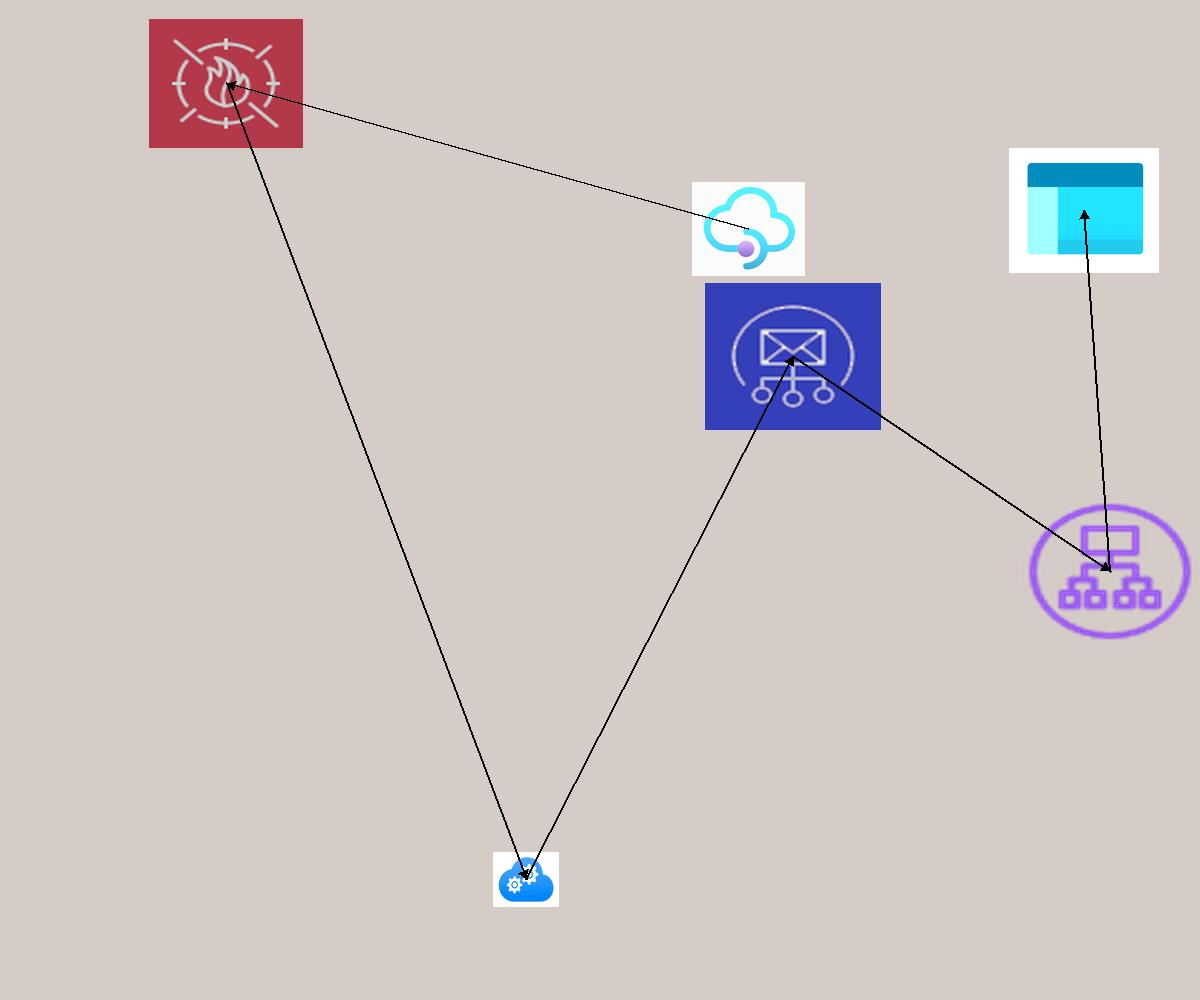AWS-Res_Elastic-Load-Balancing_Application-Load-Balancer: (1022, 498, 1198, 645)
AWS-Simple-Email-Service: (705, 283, 881, 430)
AWS-WAF: (149, 19, 303, 148)
Azure_api_gateway: (692, 182, 805, 276)
Azure_cloud_services: (493, 852, 559, 907)
Azure_management-portal: (1009, 148, 1159, 273)
